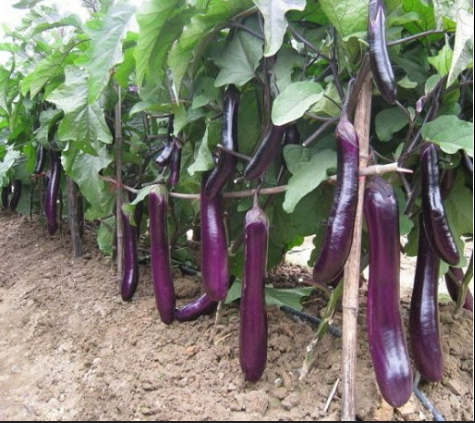catim: (349, 152, 425, 411), (135, 174, 183, 331), (329, 78, 360, 299), (413, 141, 464, 267), (405, 251, 448, 388), (360, 4, 412, 106), (244, 189, 270, 381), (197, 159, 228, 316), (117, 153, 142, 315), (213, 75, 239, 177), (42, 156, 69, 240), (441, 275, 472, 309), (169, 146, 191, 189), (32, 140, 46, 180), (159, 123, 168, 166)
